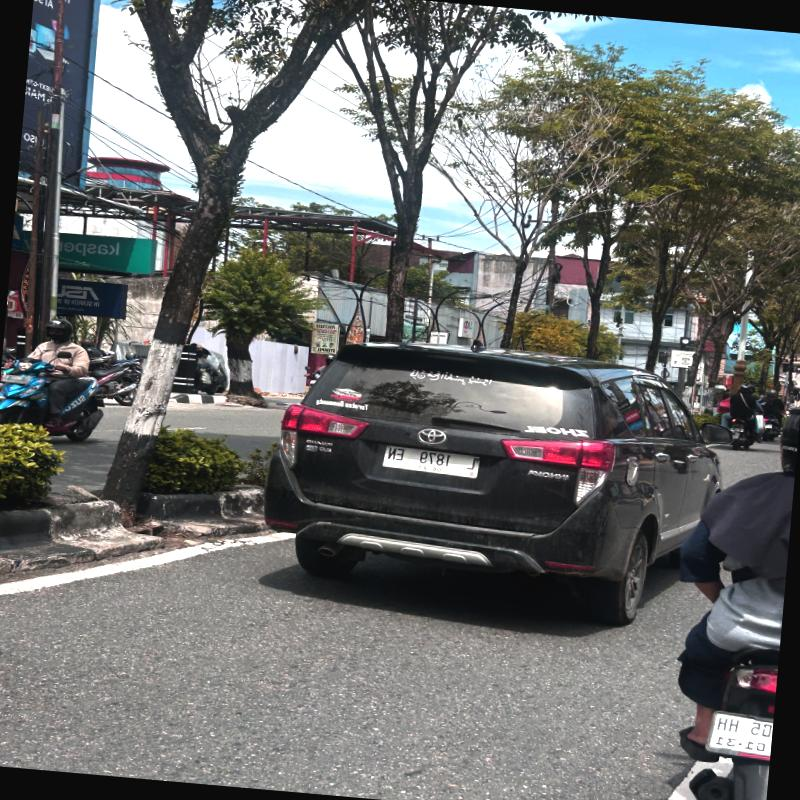license plate on a car: (384, 445, 479, 477)
